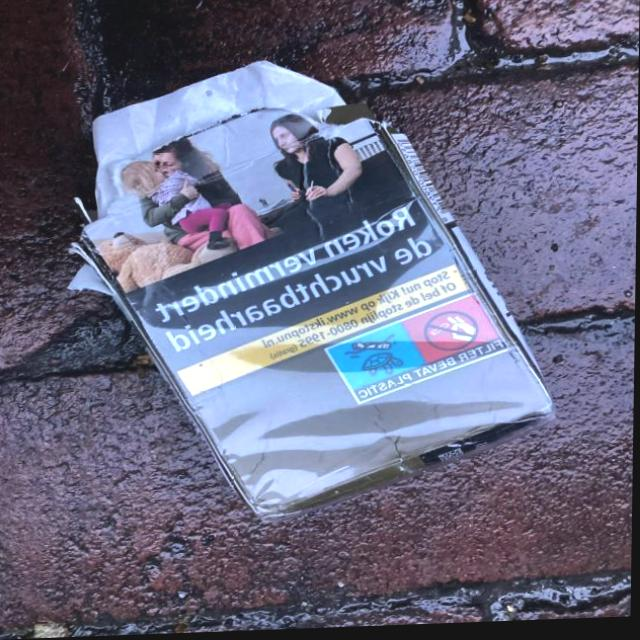Paper: (57, 48, 569, 535)
